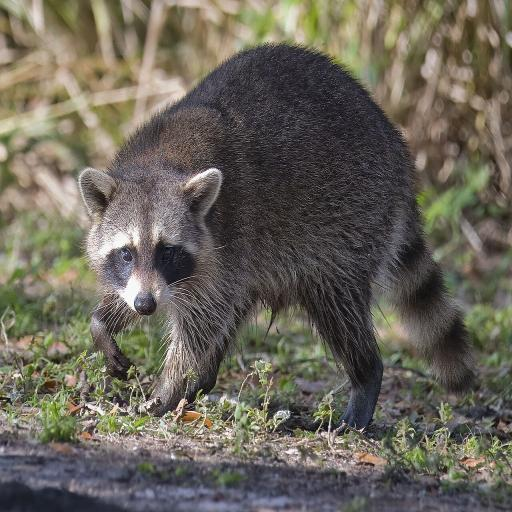raccoon: (79, 45, 474, 428)
